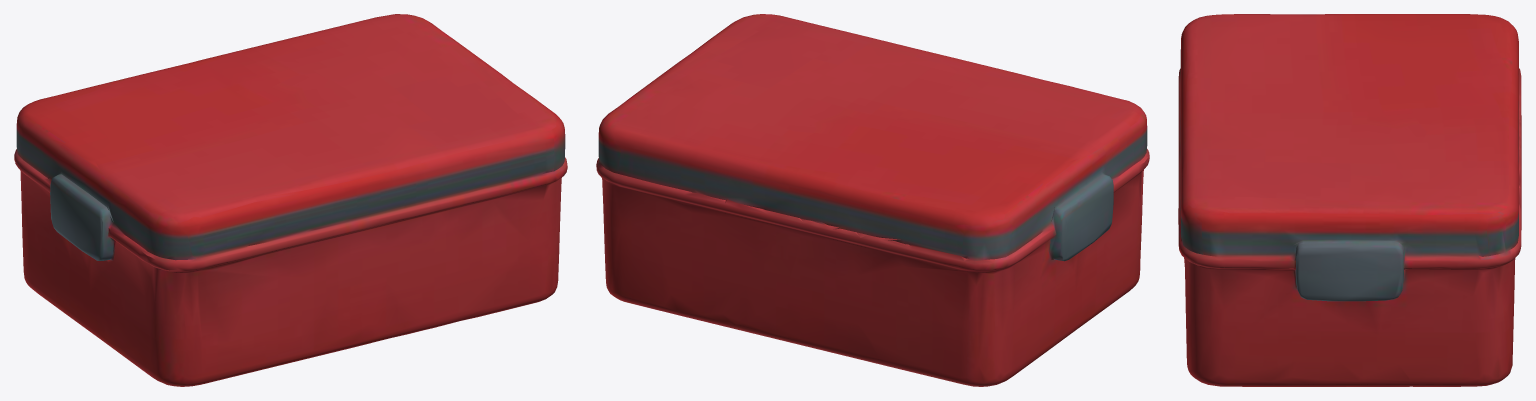
The model's file is tackle.glb.
3 renders of one model, left to right at view 1: azimuth 30°, elevation 25°; view 2: azimuth 150°, elevation 25°; view 3: azimuth 270°, elevation 25°, orthographic. The views are drawn at different scales.
Visible parts, largest first — view 1: tackle; view 2: tackle; view 3: tackle.
Part boxes in pixels (x1,y1,x2,y2): tackle: (14,14,567,386); tackle: (596,14,1149,386); tackle: (1178,14,1521,386).
Bounding box in the file's own units: 0.7672 × 0.3 × 0.5179.
Materials: 1 (1 with a texture image).
